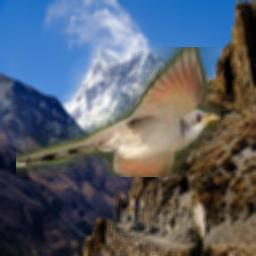Cuckoo: (16, 47, 221, 177)
